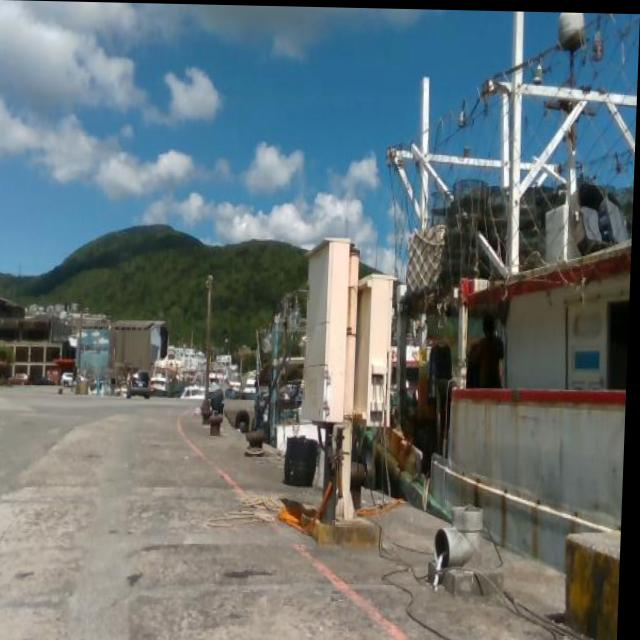pollute: (284, 431, 323, 488)
